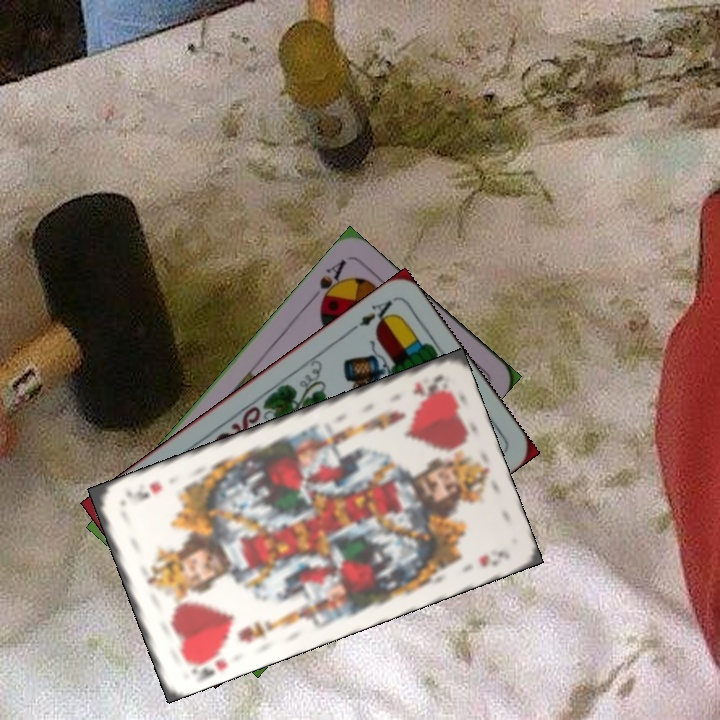EA: (345, 296, 399, 336)
HK: (182, 643, 231, 683), (409, 370, 448, 400)
SA: (306, 255, 349, 310)
